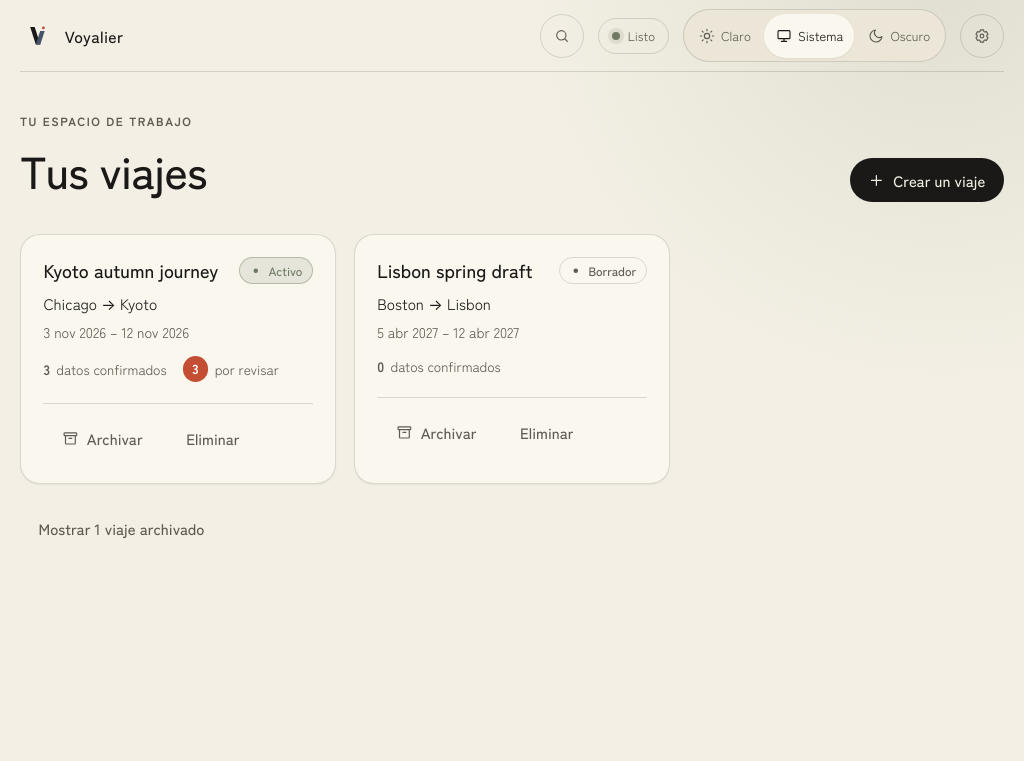
Test case: Recommendations › localizes deterministic dimensions and reasons in Spanish
What coordinates should you click on to do the following:
click the button with aria-label "Abrir Kyoto autumn journey"
I would click on:
 (131, 270)
Its box is [43,257,218,283].
(page scrolled)
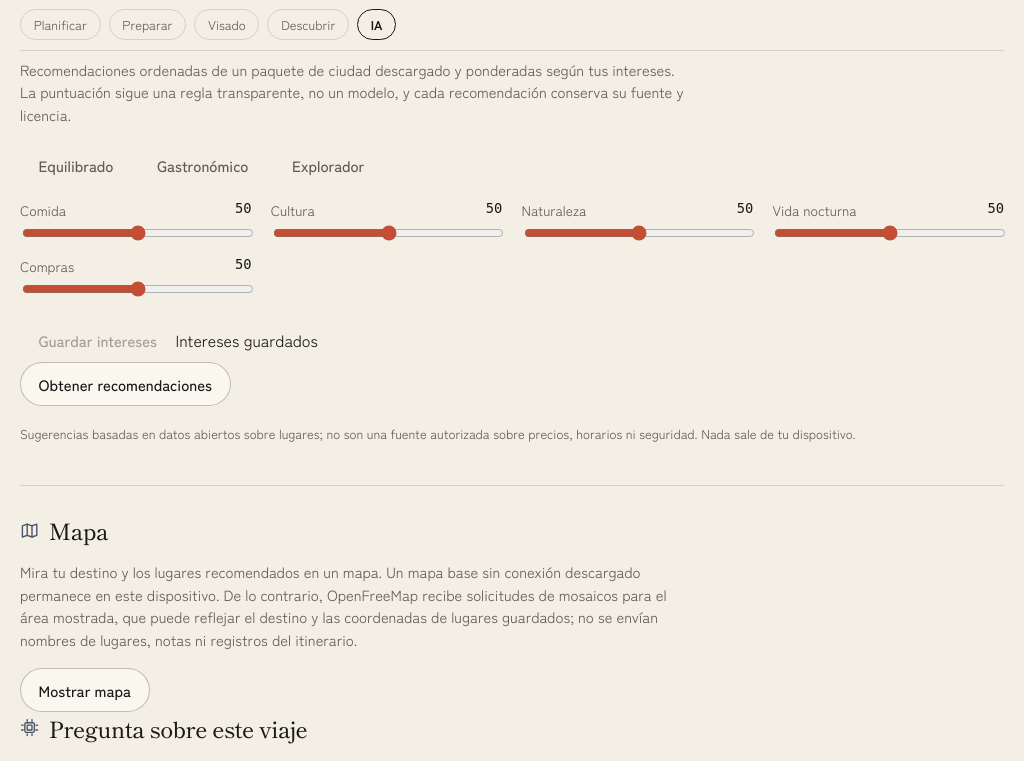
What coordinates should you click on to do the following:
click the button "Obtener recomendaciones"
I would click on:
 (125, 384)
Its box is [20,362,231,406].
(page scrolled)
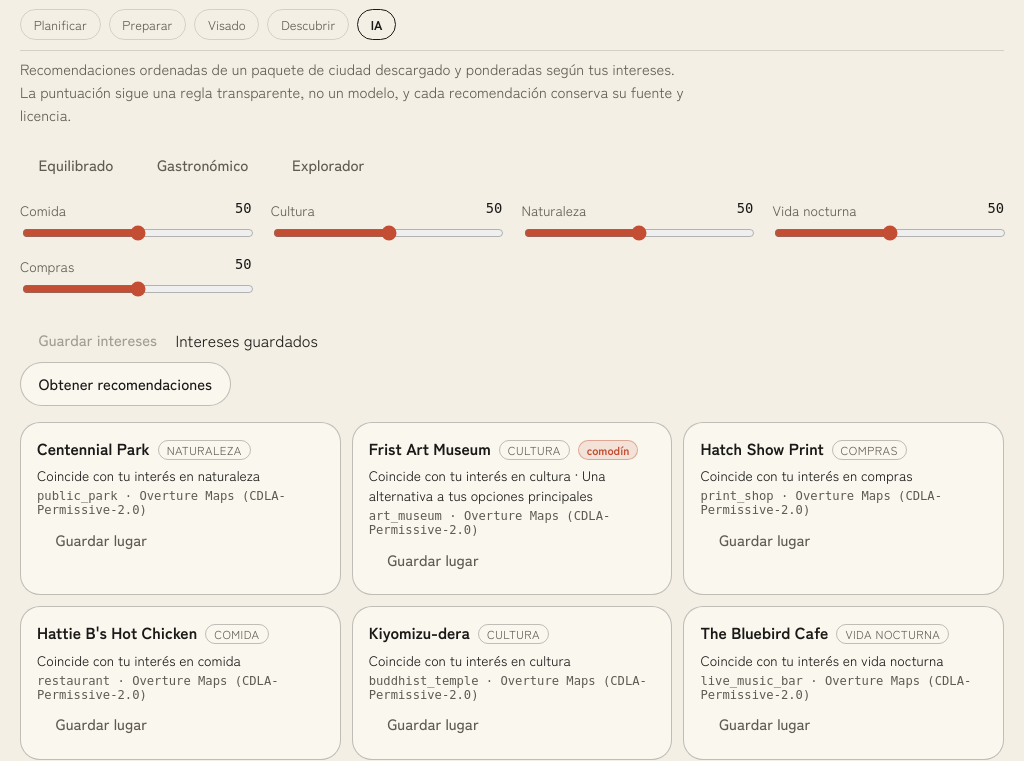
Check: the text "Comida" is shown, box [20,200,66,220]
Check: the text "Coincide con tu interés en naturaleza" is shown, box [37,465,260,485]
